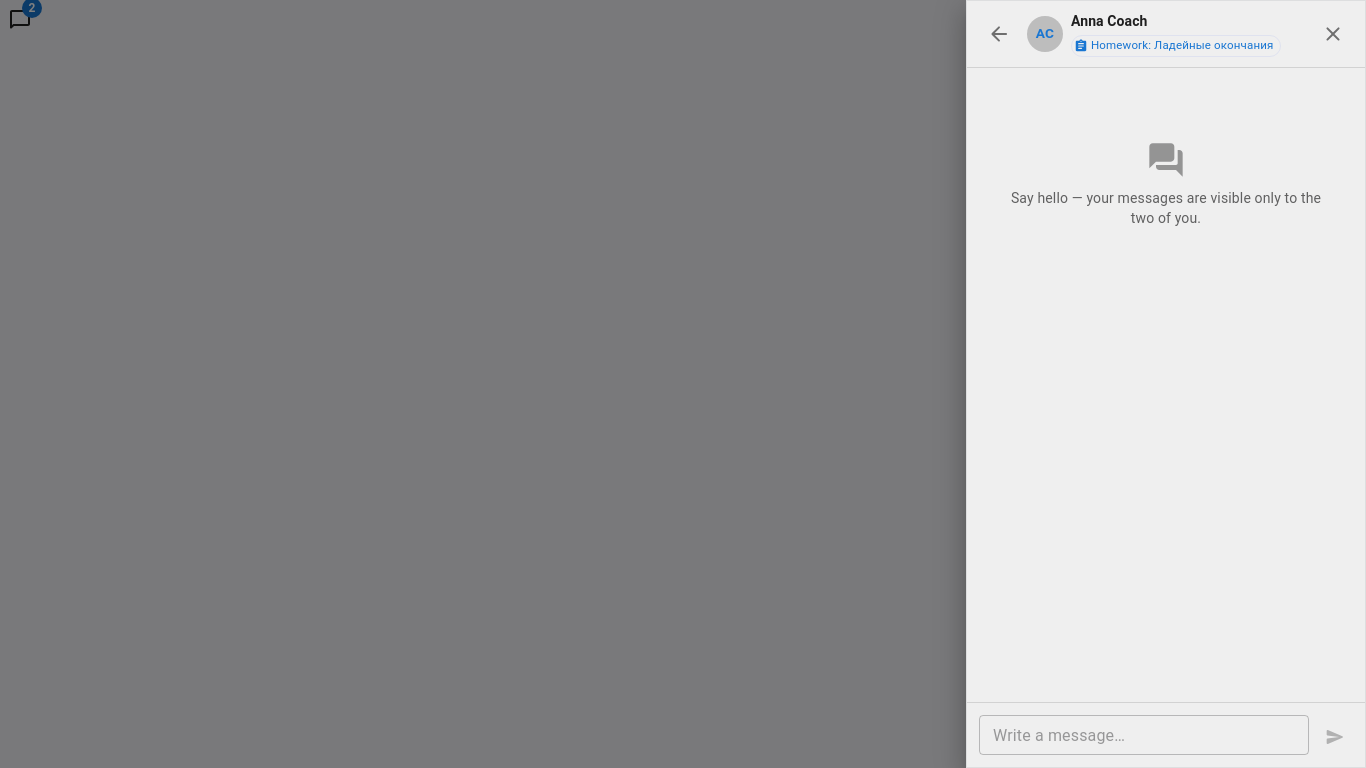
Test: ChatDrawer + ChatProvider › openChat без собеседника: единственный тренер, тема домашки — чип в шапке; без сокета — отправка по REST
Expected: the element with test id "chat-context-chip" reads "Homework: Ладейные окончания", [1091, 38, 1274, 52]
Type "Вопрос по третьему ходу" into the text box labelled "Write a message…" at coordinates (1144, 735), box [993, 724, 1295, 746]
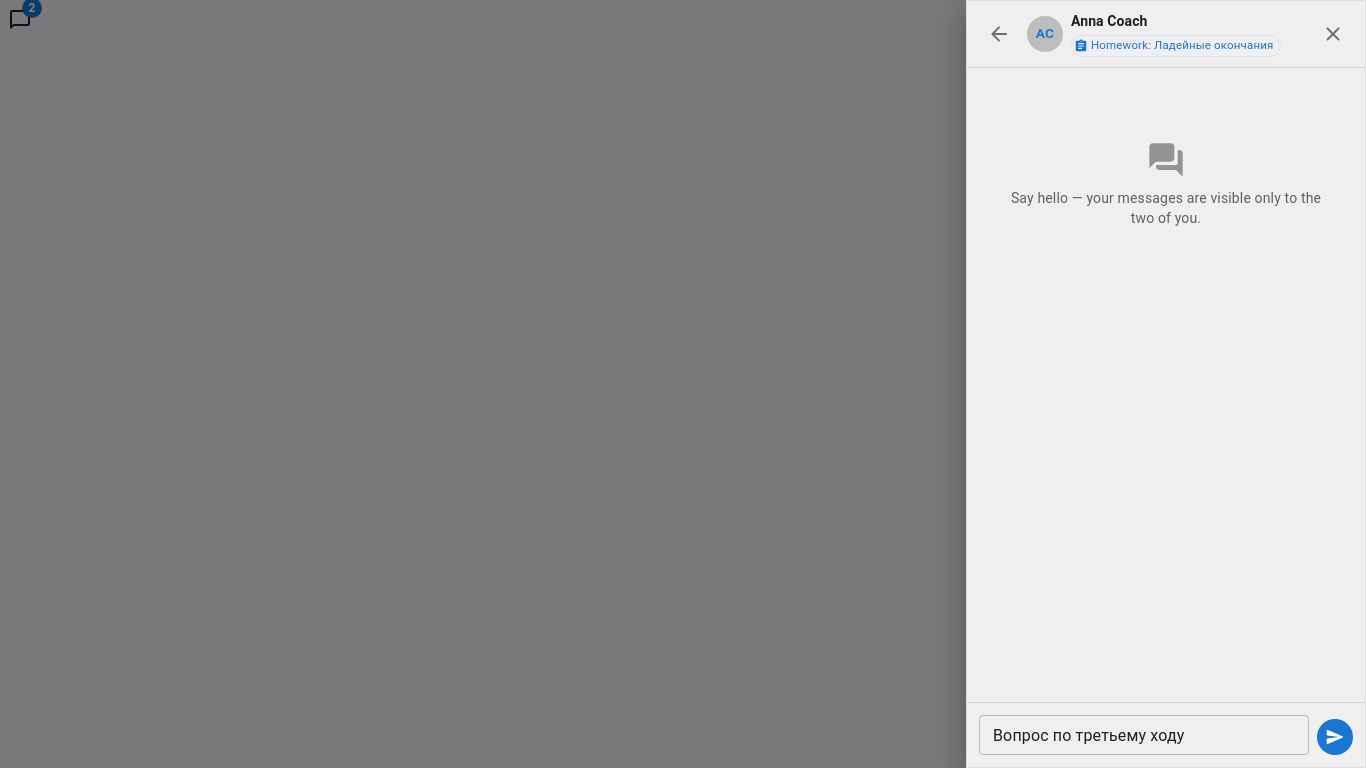
Press Enter in the text box named "Write a message…", box [993, 724, 1295, 746]
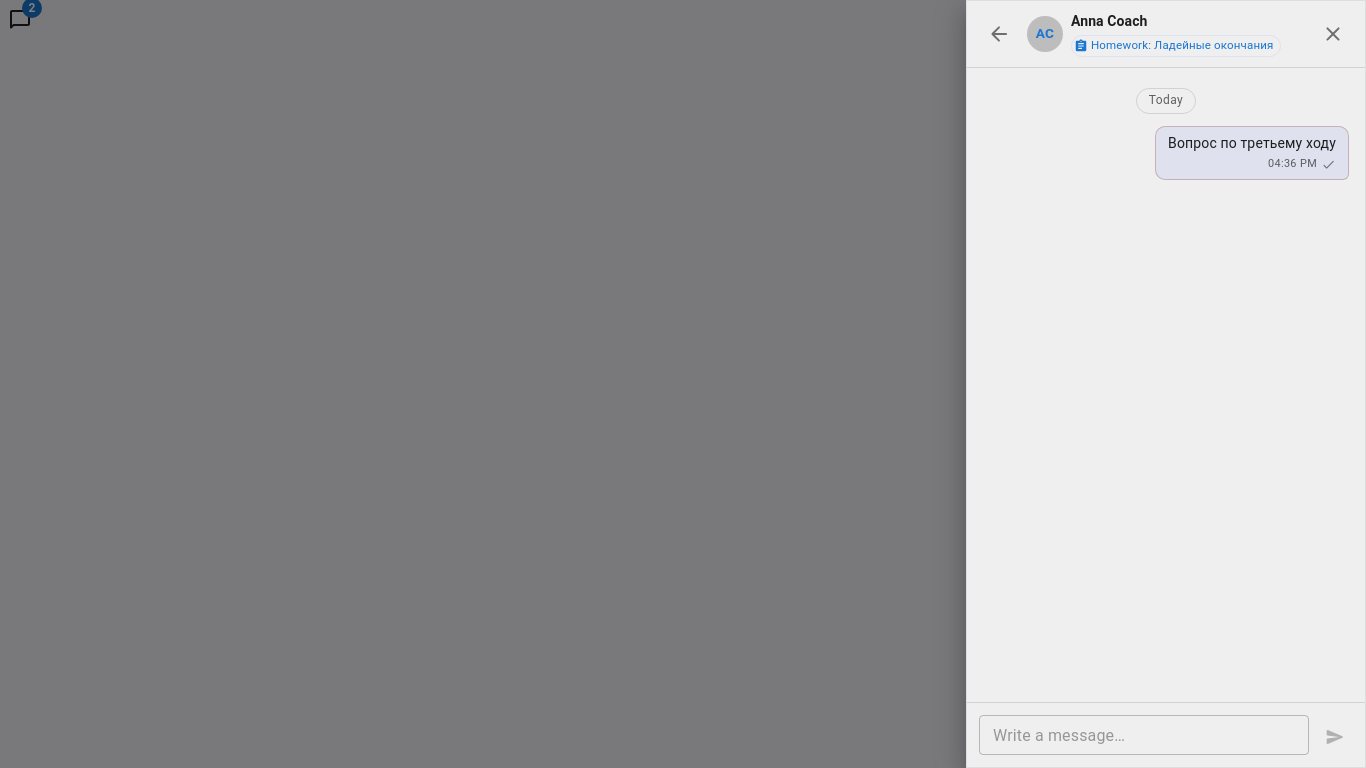
Expected: the icon named "Sent" is shown, [1321, 157, 1336, 172]
